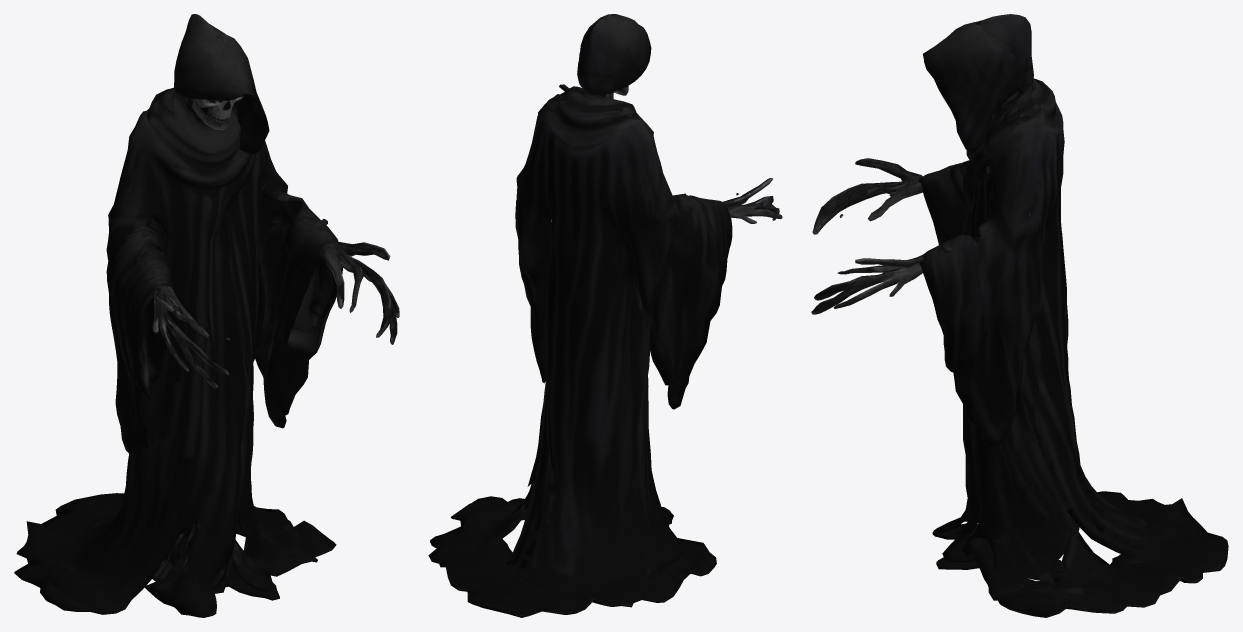
The model's file is dementor.glb.
3 renders of one model, left to right at view 1: azimuth 30°, elevation 25°; view 2: azimuth 150°, elevation 25°; view 3: azimuth 270°, elevation 25°, orthographic. The views are drawn at different scales.
Parts seen in each view (by area): view 1: Object_5; view 2: Object_5; view 3: Object_5.
Boxes of the visible parts, x1=… form: Object_5: x1=14, y1=14, x2=399, y2=617; Object_5: x1=428, y1=14, x2=782, y2=617; Object_5: x1=811, y1=14, x2=1228, y2=617.
Size of the model in its own units: 0.9785 by 1.91 by 1.33.
Materials: 1 (1 with a texture image).
